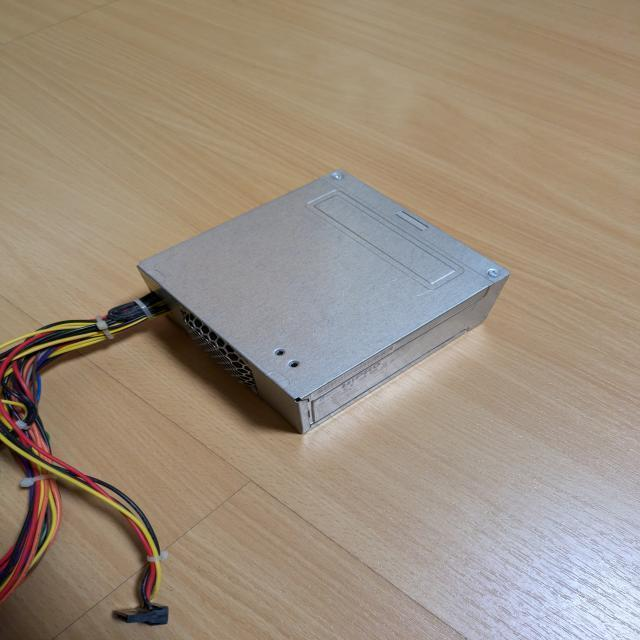PSU: (138, 166, 512, 434)
